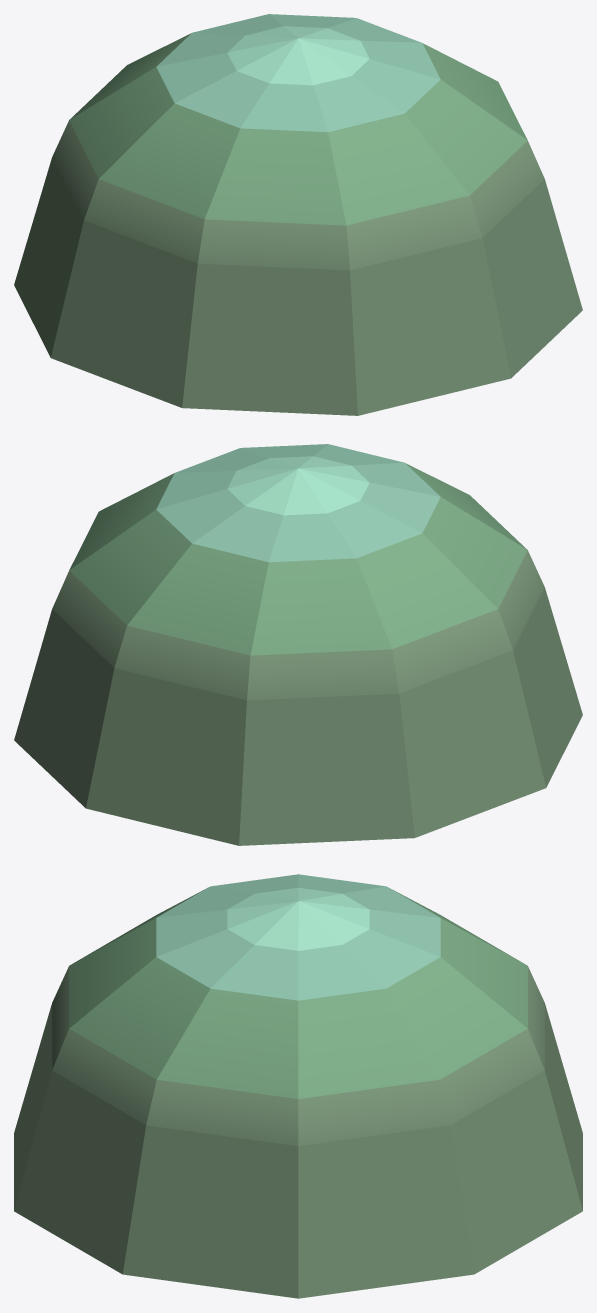
File: plante_1_etape_1_v2.fbx
3 views of the same model, one above another, from view 1: azimuth 30°, elevation 25°; view 2: azimuth 150°, elevation 25°; view 3: azimuth 270°, elevation 25° (orthographic). The views are drawn at different scales.
Visible parts, largest first — view 1: stage_1_v2; view 2: stage_1_v2; view 3: stage_1_v2.
Part boxes in pixels (left/top/right/bottom): stage_1_v2: left=14, top=14, right=582, bottom=415; stage_1_v2: left=14, top=444, right=582, bottom=845; stage_1_v2: left=14, top=874, right=582, bottom=1298.
Bounding box in the file's own units: 0.8858 × 0.4429 × 0.8424.
